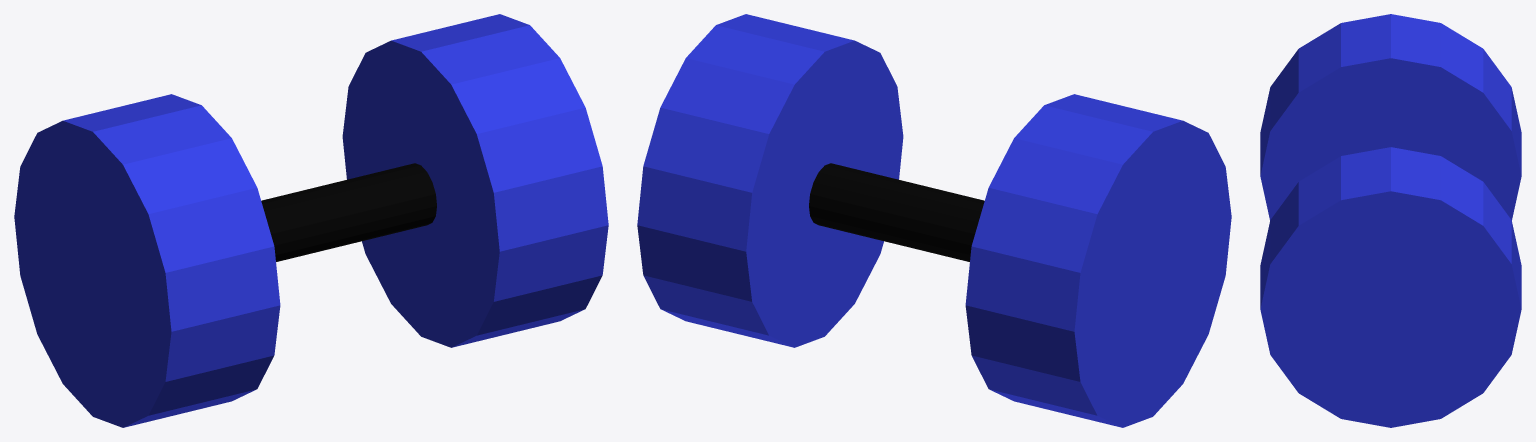
The model's file is Blue Dumbbell.fbx.
3 views of the same model, side by side, from view 1: azimuth 30°, elevation 25°; view 2: azimuth 150°, elevation 25°; view 3: azimuth 270°, elevation 25° (orthographic). The views are drawn at different scales.
Parts seen in each view (by area): view 1: Blue, Blue.001, handleBlue; view 2: Blue, Blue.001, handleBlue; view 3: Blue.001, Blue.
Part boxes in pixels (left/top/right/bottom): Blue: left=14, top=94, right=280, bottom=427; Blue.001: left=342, top=14, right=608, bottom=347; handleBlue: left=261, top=163, right=436, bottom=261; Blue: left=965, top=94, right=1231, bottom=427; Blue.001: left=637, top=14, right=903, bottom=347; handleBlue: left=809, top=163, right=984, bottom=261; Blue.001: left=1260, top=147, right=1521, bottom=427; Blue: left=1260, top=14, right=1521, bottom=220.
Bounding box in the file's own units: 794 × 495 × 495.
